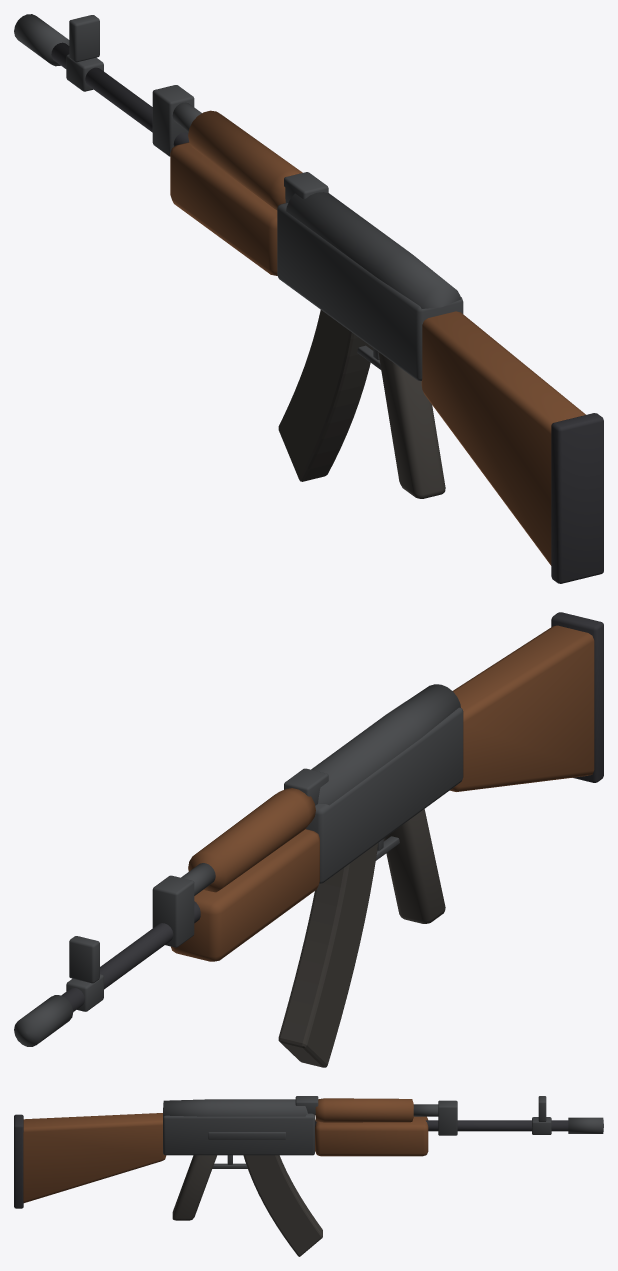
3 renders of one model, top to bottom at view 1: azimuth 30°, elevation 25°; view 2: azimuth 150°, elevation 25°; view 3: azimuth 270°, elevation 25°, orthographic. The views are drawn at different scales.
Visible parts, largest first — view 1: AK74; view 2: AK74; view 3: AK74.
Part boxes in pixels (bbox=[...]): AK74: bbox=[14, 14, 603, 583]; AK74: bbox=[14, 612, 603, 1067]; AK74: bbox=[14, 1096, 603, 1256].
Size of the model in its own units: 0.05 by 0.2644 by 0.911.
